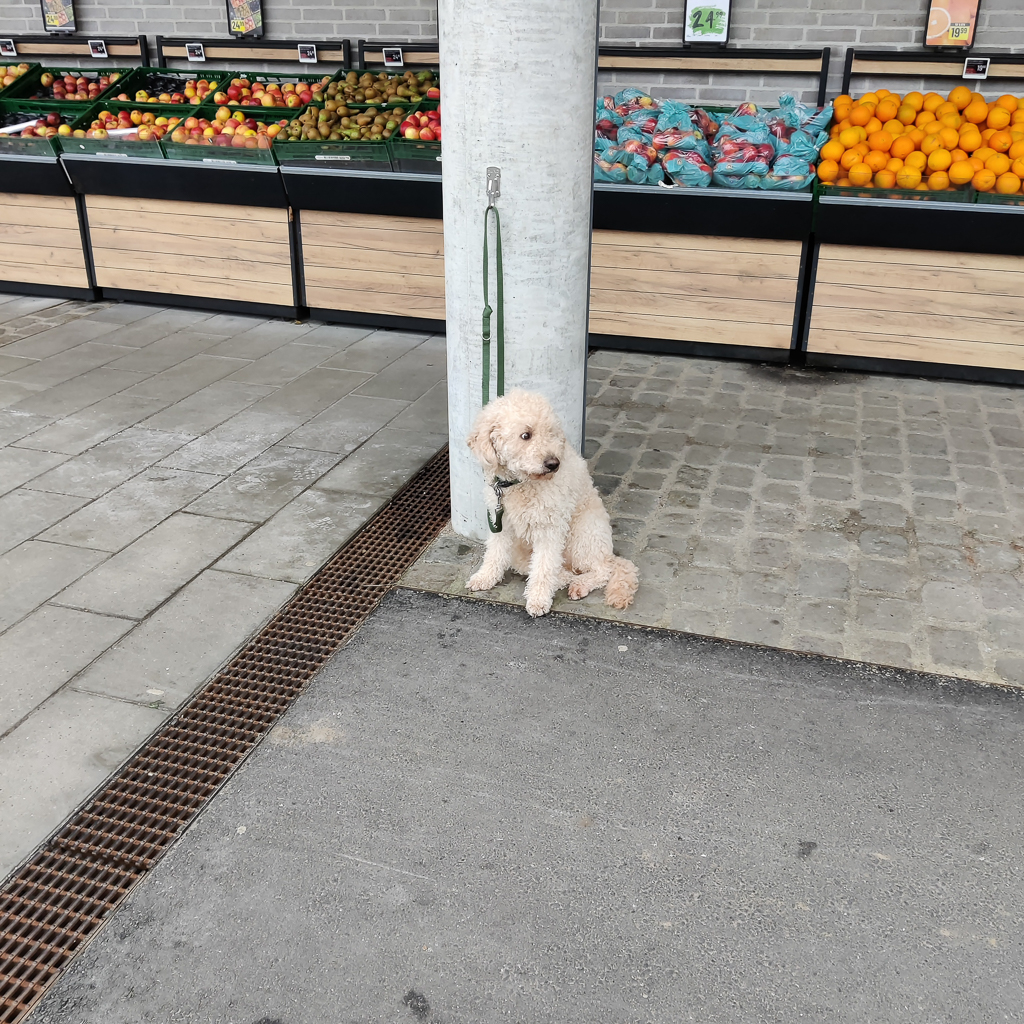Dog: (445, 384, 671, 631)
